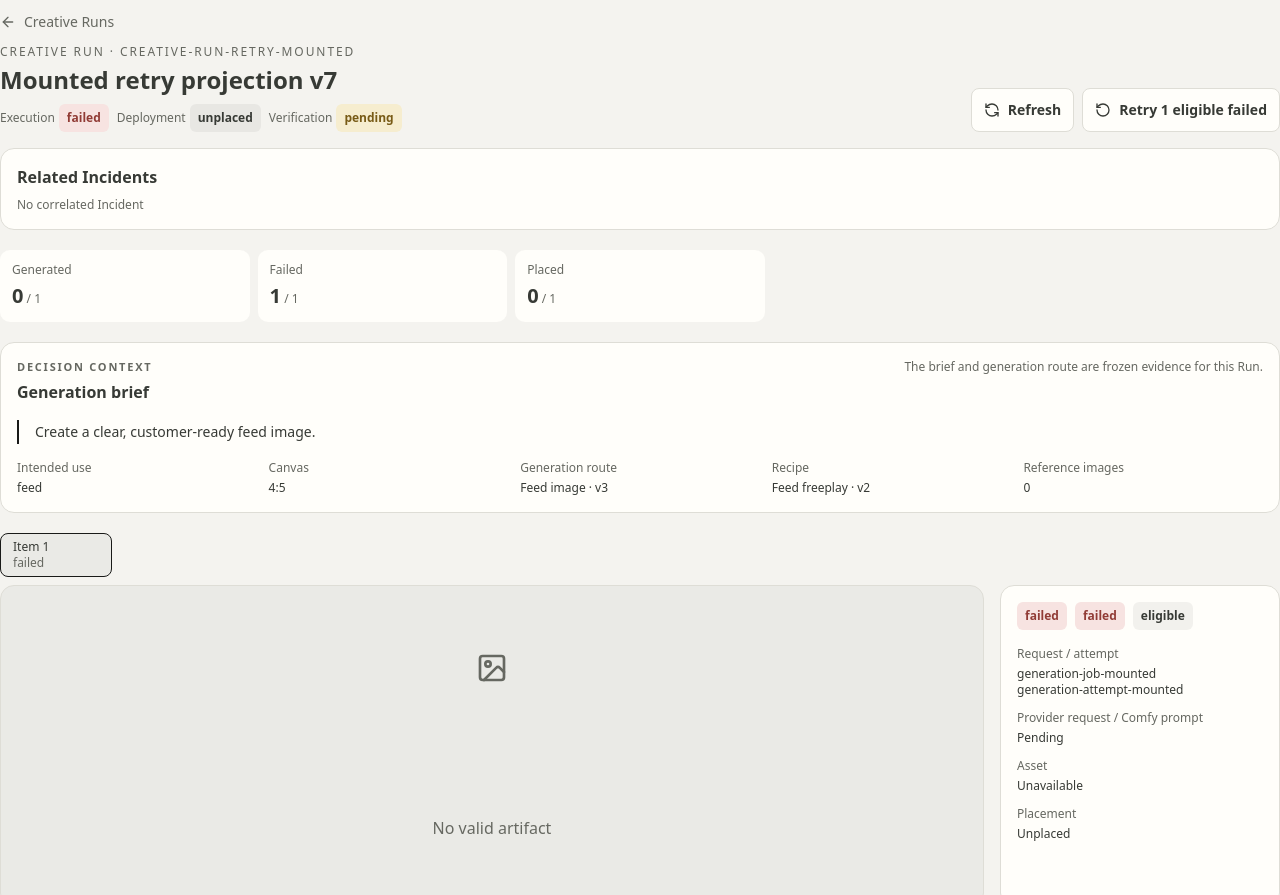
Test: Creative Run asynchronous retry command › replays a submission-unknown journal with the same key after remount instead of creating a second retry intent
Click the button "Retry 1 eligible failed".
click(1181, 110)  # box [1082,88,1279,132]
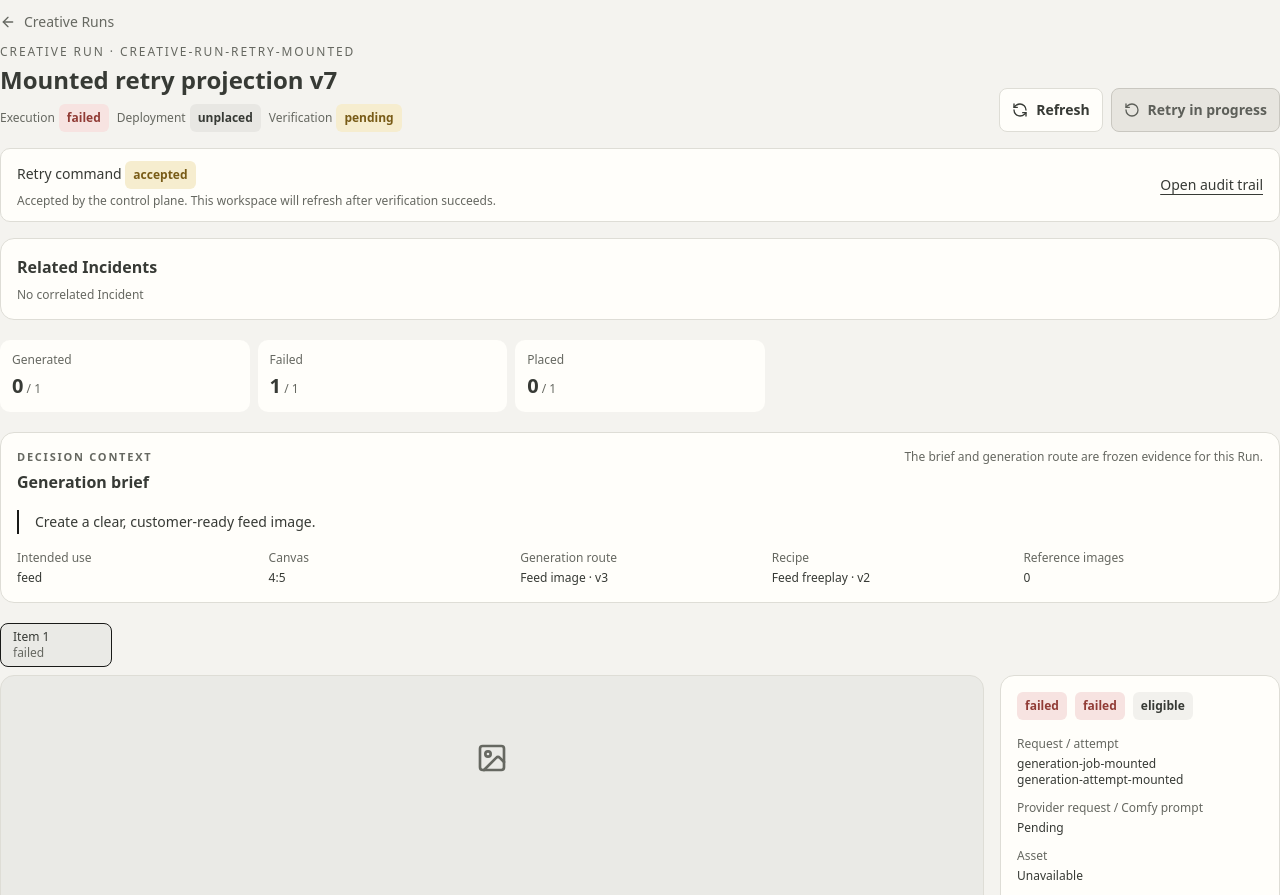
Now the link to "/admin/audit?commandId=retry-command-replayed" is shown, box [1160,175,1263,194]
Now the button "Retry in progress" is disabled, box [1111,88,1279,132]
